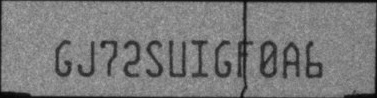0: (259, 40, 278, 77)
2: (123, 39, 141, 79)
6: (306, 40, 323, 79)
7: (99, 39, 117, 77)
A: (282, 41, 299, 79)
F: (236, 39, 255, 79)
G: (54, 40, 73, 78), (214, 39, 232, 78)
I: (191, 37, 209, 79)
J: (77, 40, 96, 77)
S: (146, 40, 163, 78)
U: (167, 38, 186, 78)
